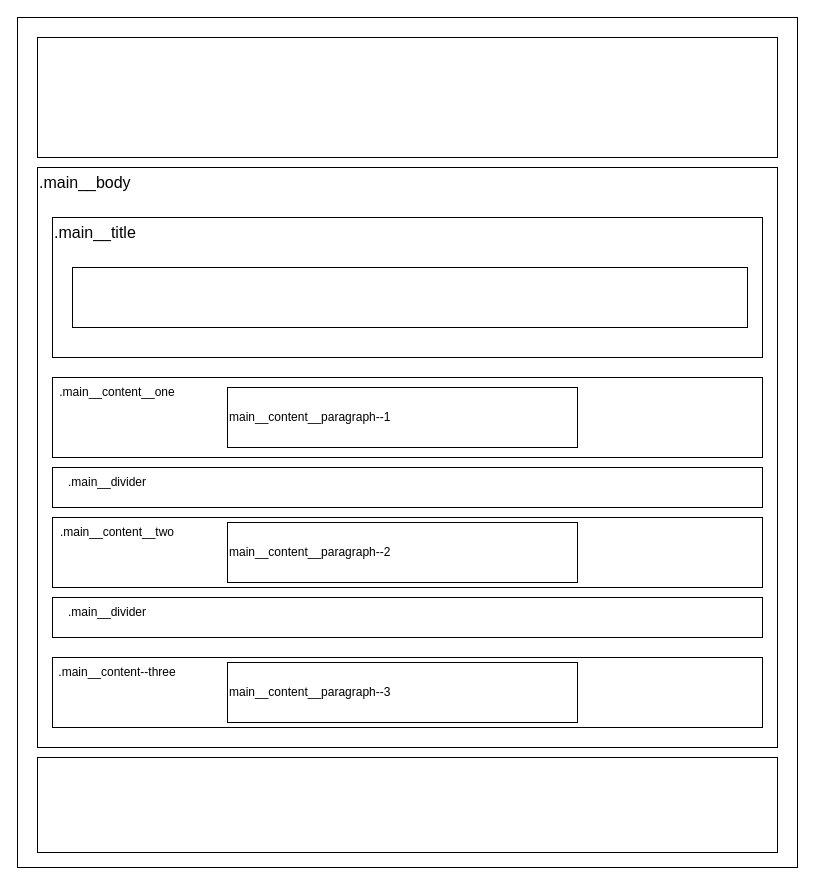
This 815x885 diagram has some shape labels left out. Here are the shapes that lost their labels. From the top down, the box of each, then its label:
(36, 36, 778, 158): . header
(72, 266, 748, 328): .main__title--paragraph
(36, 756, 778, 852): .footer
